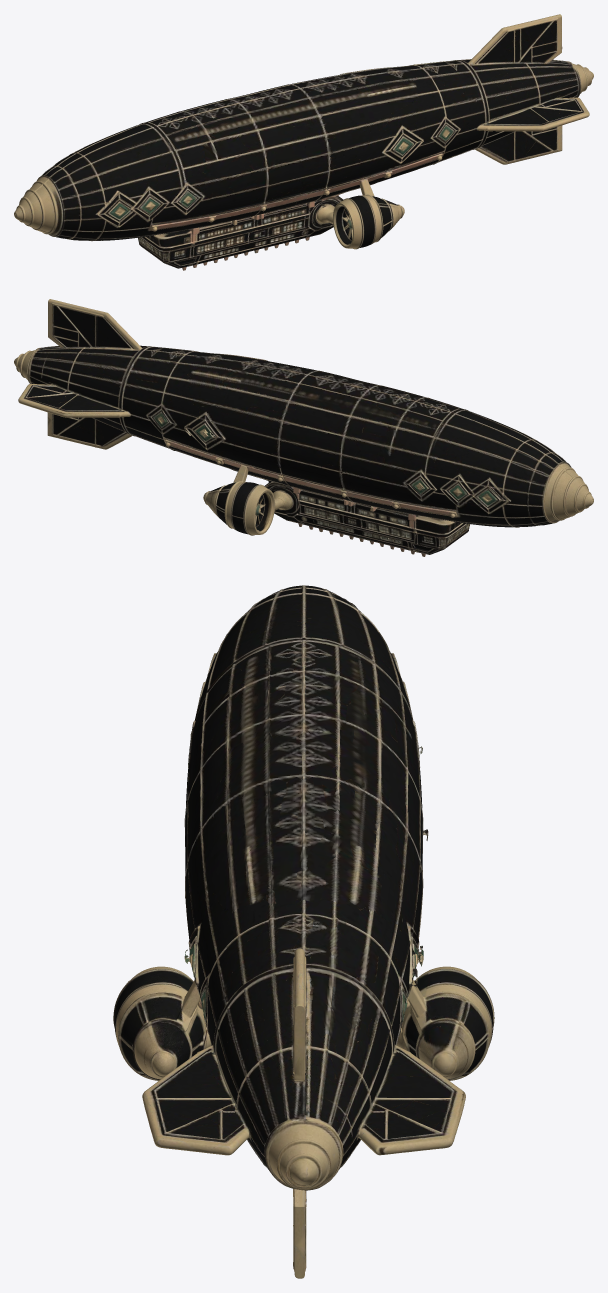
The model's file is cloud.glb.
The picture shows the model from 3 angles, top to bottom: view 1: azimuth 30°, elevation 25°; view 2: azimuth 150°, elevation 25°; view 3: azimuth 270°, elevation 25°; orthographic projection. The views are drawn at different scales.
Size of the model in its own units: 1.9 by 0.5075 by 0.5416.
Materials: 1 (1 with a texture image).
